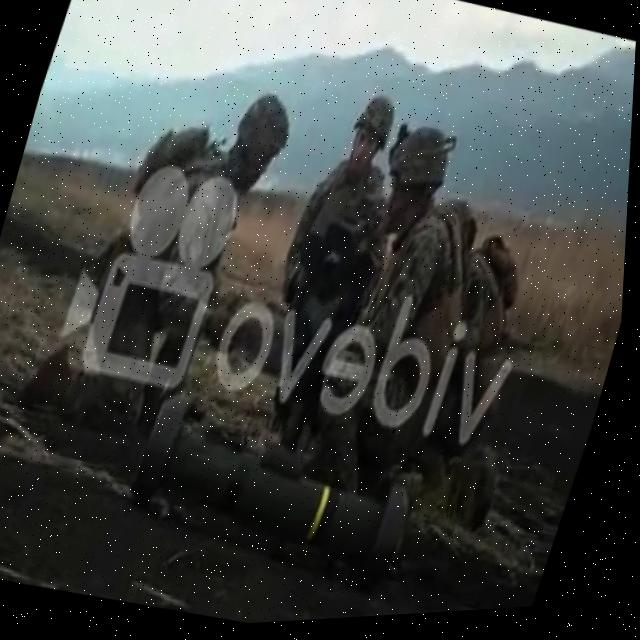rocket: (126, 380, 442, 587)
